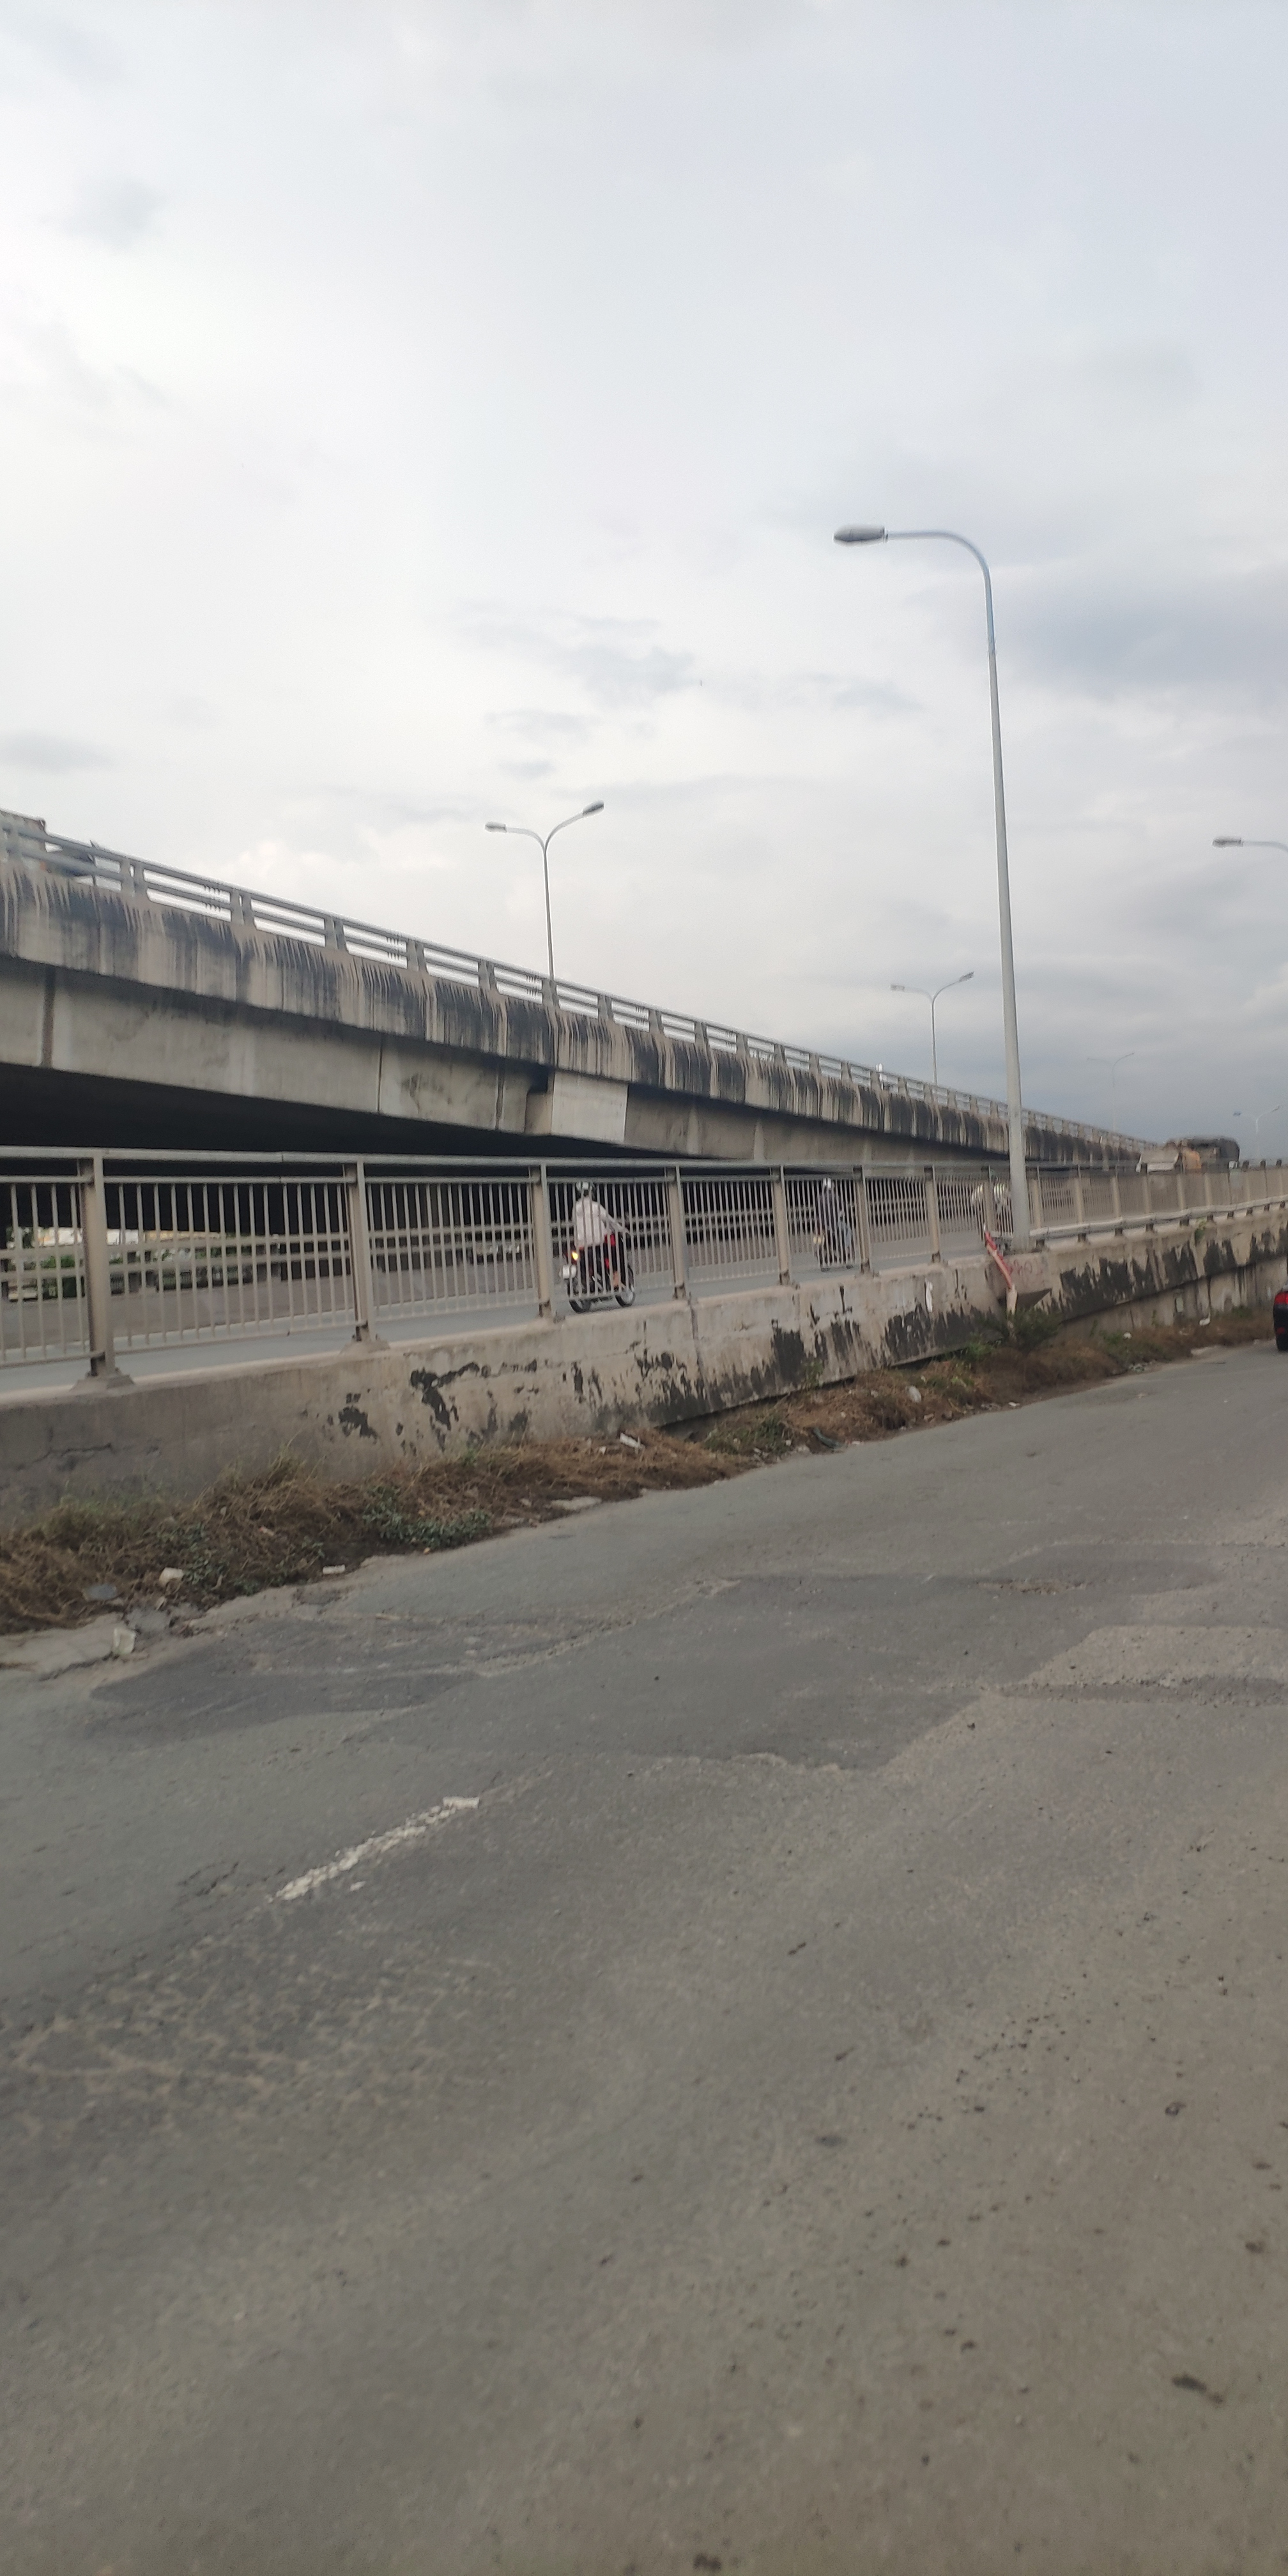hole: (0, 1873, 664, 2325), (217, 1587, 634, 1699), (958, 1567, 1097, 1602)
